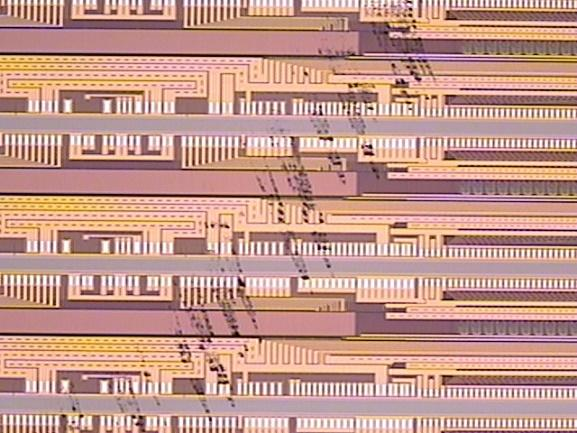SCRATCH: (45, 1, 440, 433)
